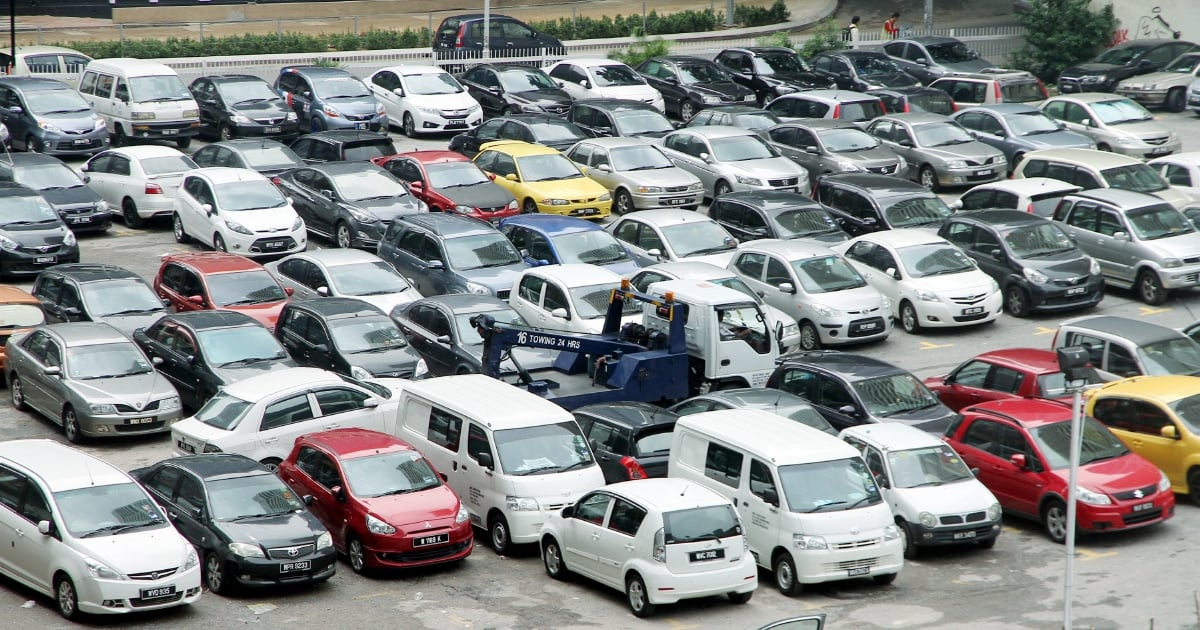Car: (668, 409, 905, 595), (473, 282, 782, 411), (395, 375, 605, 555), (0, 439, 203, 619), (946, 399, 1175, 542), (539, 479, 758, 617), (131, 454, 338, 593), (279, 429, 474, 574), (171, 367, 412, 469), (840, 423, 1002, 555), (5, 323, 181, 442), (729, 240, 892, 350), (938, 209, 1104, 316), (836, 229, 1003, 333), (1052, 189, 1200, 305), (133, 311, 295, 413), (767, 351, 955, 435), (630, 262, 800, 353), (1085, 376, 1200, 504), (392, 294, 557, 378), (275, 162, 429, 250), (377, 213, 526, 300), (275, 298, 427, 379), (173, 168, 308, 259), (920, 349, 1106, 414), (1012, 148, 1200, 209), (472, 141, 612, 222), (864, 113, 1008, 191), (153, 252, 295, 331), (659, 126, 810, 199), (372, 150, 520, 224), (78, 59, 199, 149), (565, 138, 704, 214), (1050, 315, 1200, 383), (762, 119, 907, 189), (268, 249, 422, 314), (31, 263, 168, 335), (80, 145, 198, 228), (508, 264, 644, 335), (1038, 93, 1182, 160), (952, 105, 1096, 170), (0, 153, 113, 233), (498, 214, 639, 278), (0, 76, 110, 156), (813, 174, 954, 236), (365, 65, 484, 137), (573, 403, 678, 483), (1056, 38, 1200, 94), (670, 388, 838, 436), (637, 55, 757, 122), (706, 191, 850, 246), (607, 209, 740, 268), (432, 14, 565, 72), (275, 66, 388, 133), (189, 74, 300, 142), (0, 183, 80, 277), (714, 49, 837, 105), (545, 58, 665, 113), (449, 114, 592, 157), (459, 64, 573, 117), (880, 35, 993, 84), (953, 178, 1081, 219), (1115, 51, 1200, 112), (928, 68, 1049, 110), (568, 99, 676, 146), (811, 50, 922, 93), (765, 90, 887, 127), (191, 139, 306, 177), (0, 285, 46, 374), (0, 46, 93, 86), (291, 131, 397, 163), (868, 85, 957, 117), (1146, 151, 1200, 200), (683, 106, 780, 133), (1185, 68, 1200, 116), (1180, 318, 1200, 345), (1182, 202, 1200, 231)
